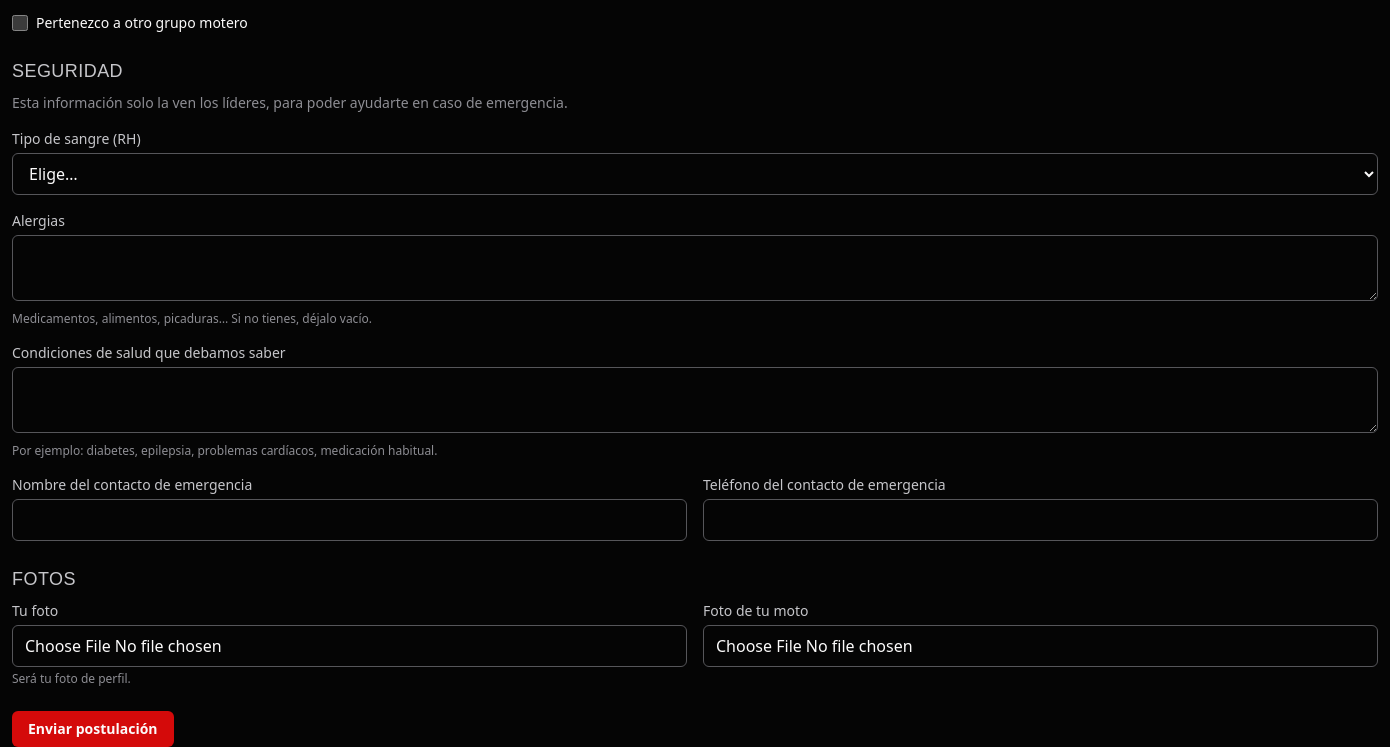
Test: ApplicationForm › exige los datos básicos, el RH y el contacto de emergencia
(page scrolled)
What coordinates should you click on to do the following:
click the button "Enviar postulación"
I would click on:
 (93, 729)
Its box is [12,711,174,746].
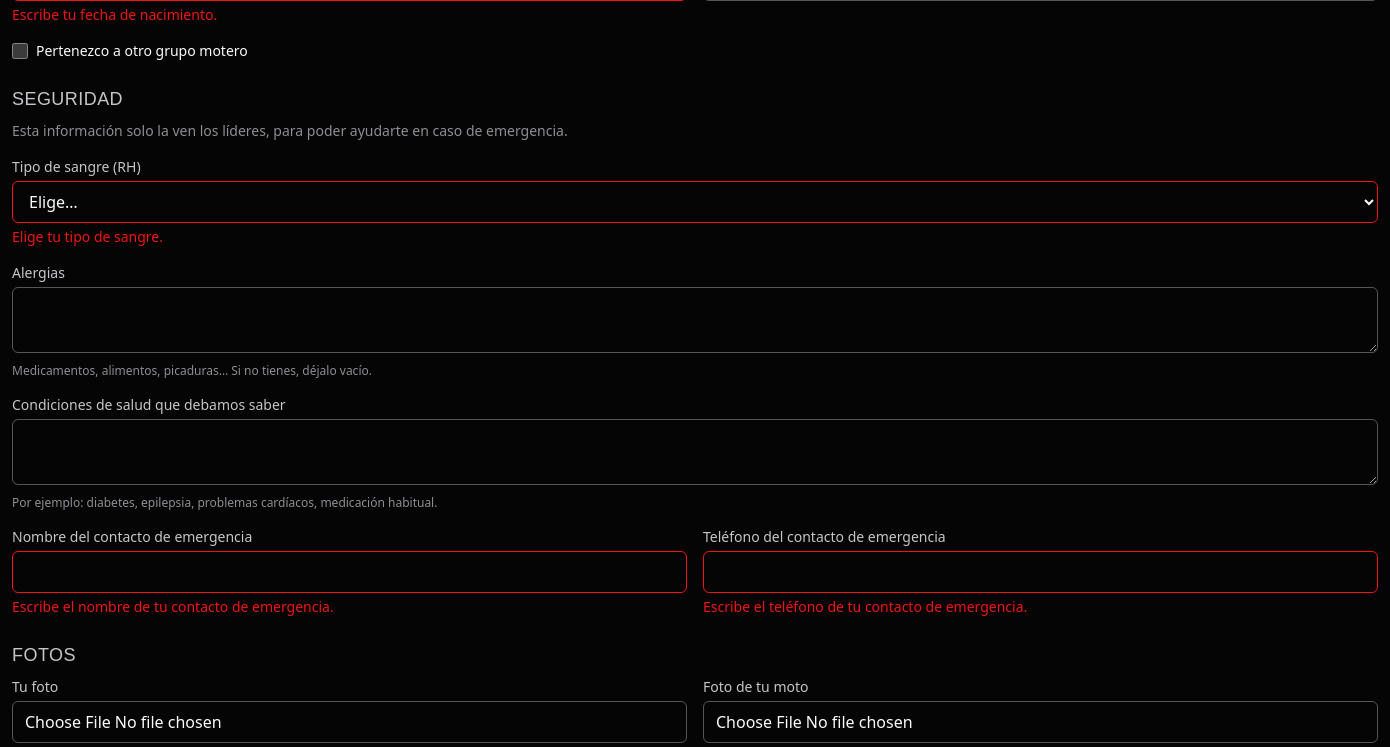
Check: the text "Escribe tu fecha de nacimiento." is shown, box [12,5,217,24]
Check: the text "Elige tu tipo de sangre." is shown, box [12,227,163,246]
Check: the text "Escribe el nombre de tu contacto de emergencia." is shown, box [12,597,334,616]
